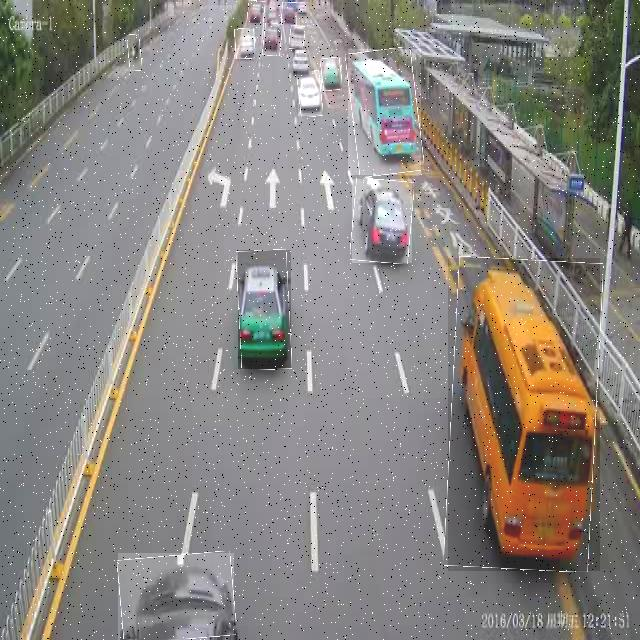Bus: (448, 258, 600, 571), (348, 49, 421, 175)
Car: (118, 553, 234, 640), (238, 250, 291, 369), (352, 179, 412, 263), (298, 71, 322, 116), (321, 57, 342, 91), (234, 29, 255, 59), (263, 23, 282, 56), (294, 46, 314, 76), (247, 0, 264, 23), (282, 2, 297, 25), (290, 26, 304, 49)
Motorcycle: (128, 34, 141, 71)
